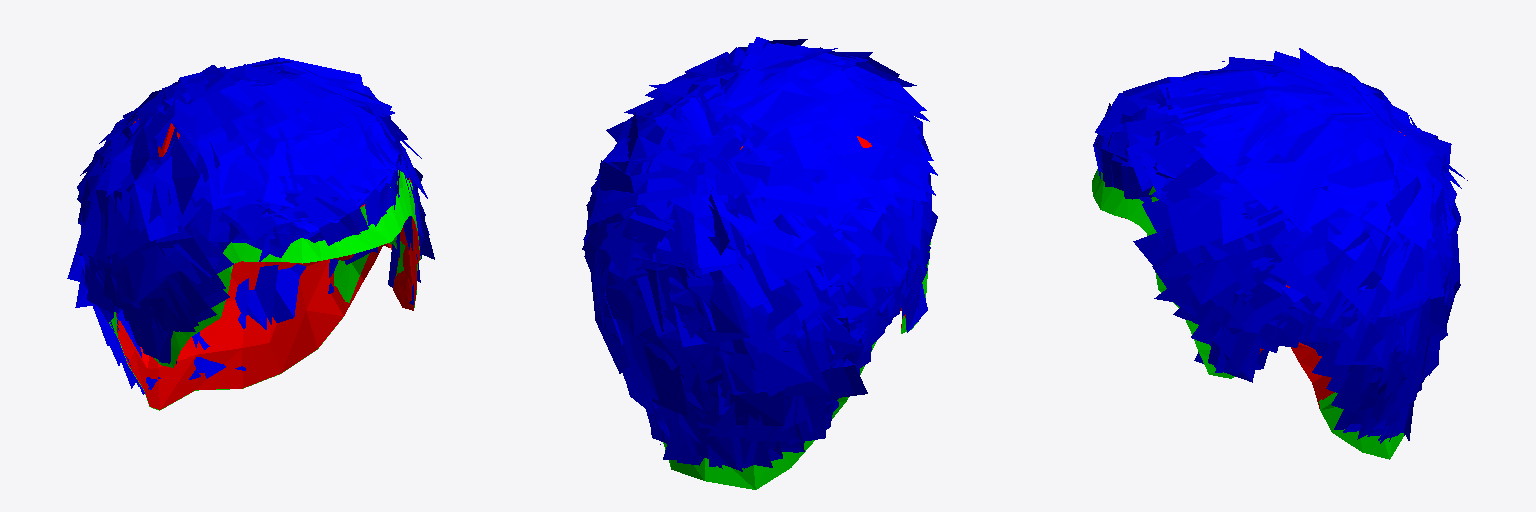
The model's file is hair_010.obj.
3 renders of one model, left to right at view 1: azimuth 30°, elevation 25°; view 2: azimuth 150°, elevation 25°; view 3: azimuth 270°, elevation 25°, orthographic.
Parts seen in each view (by area): view 1: hair_010; view 2: hair_010; view 3: hair_010.
Boxes of the visible parts, box(x1,y1,x2,y2) form: hair_010: box(67, 57, 434, 410); hair_010: box(582, 37, 937, 489); hair_010: box(1092, 48, 1467, 459).
Bounding box in the file's own units: 18.19 × 20.86 × 19.3.